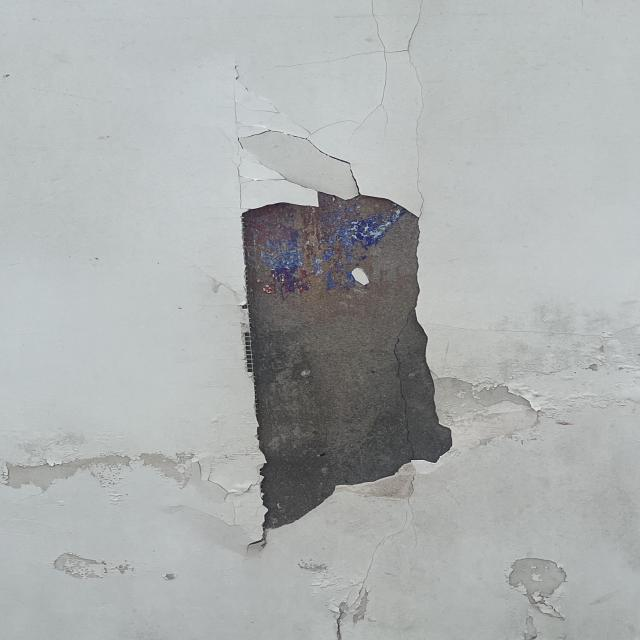spalling: (199, 124, 475, 567), (2, 438, 205, 509), (482, 542, 601, 640), (38, 553, 192, 604)
